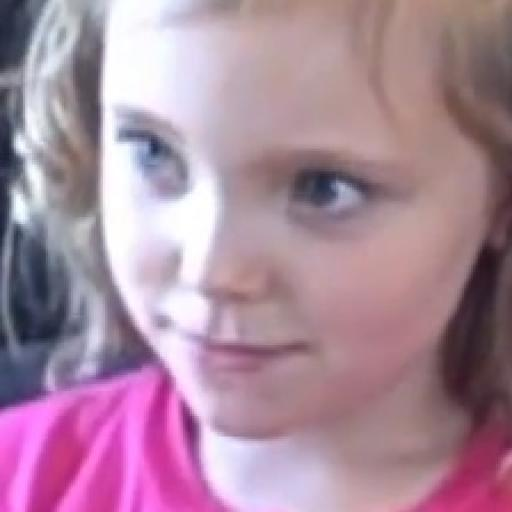Autism: (60, 0, 512, 472)
